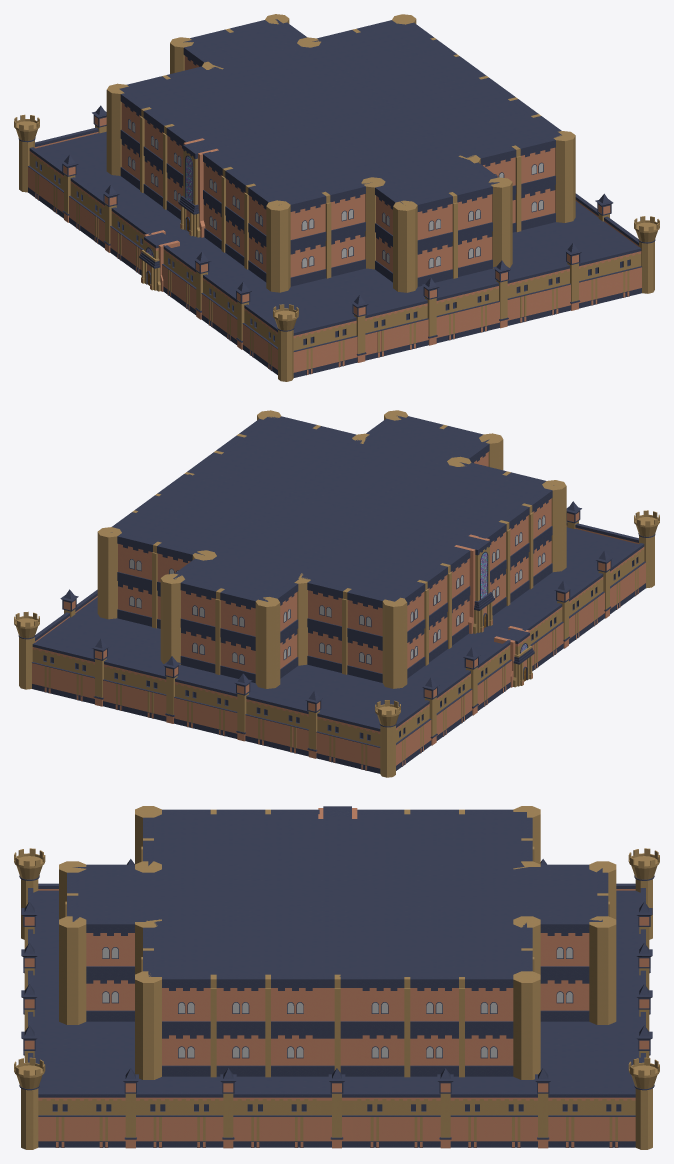
The model's file is FinishedCastle.fbx.
3 views of the same model, one above another, from view 1: azimuth 30°, elevation 25°; view 2: azimuth 150°, elevation 25°; view 3: azimuth 270°, elevation 25° (orthographic). The views are drawn at different scales.
Parts seen in each view (by area): view 1: Plane (×2), polySurface3 (×13), Wall47, Wall44, Wall45, Wall46, Wall43, Tower, Tower3, Tower6, Tower4, Wall29 (+23 smaller); view 2: Plane (×2), polySurface3 (×13), Wall34, Wall37, Wall35, Wall36, Wall38, Tower9, Tower7, Tower12, Tower10, Entrance2 (+21 smaller); view 3: Plane (×2), polySurface3 (×8), Wall39, Wall42, Wall50, Wall51, Wall40, Wall41, Tower10, Tower4, Tower12, Tower6 (+24 smaller).
Boxes of the visible parts, left/top/right/bottom form: Plane (×2): left=35, top=19, right=638, bottom=330; polySurface3 (×13): left=120, top=92, right=555, bottom=286; Wall47: left=293, top=316, right=357, bottom=377; Wall44: left=507, top=264, right=570, bottom=325; Wall45: left=436, top=281, right=499, bottom=342; Wall46: left=365, top=299, right=428, bottom=360; Wall43: left=579, top=247, right=641, bottom=308; Tower: left=266, top=200, right=290, bottom=292; Tower3: left=393, top=200, right=417, bottom=292; Tower6: left=553, top=131, right=575, bottom=222; Tower4: left=488, top=177, right=512, bottom=268; Wall29: left=201, top=274, right=237, bottom=345; Plane (×2): left=35, top=415, right=638, bottom=726; polySurface3 (×13): left=117, top=488, right=552, bottom=682; Wall34: left=316, top=712, right=380, bottom=773; Wall37: left=103, top=660, right=166, bottom=721; Wall35: left=245, top=695, right=308, bottom=756; Wall36: left=174, top=677, right=237, bottom=738; Wall38: left=32, top=642, right=94, bottom=704; Tower9: left=255, top=597, right=280, bottom=688; Tower7: left=382, top=597, right=407, bottom=688; Tower12: left=97, top=527, right=121, bottom=619; Tower10: left=160, top=573, right=184, bottom=664; Entrance2: left=454, top=534, right=494, bottom=633; Plane (×2): left=33, top=812, right=640, bottom=1092; polySurface3 (×8): left=86, top=919, right=589, bottom=1076; Wall39: left=548, top=1092, right=635, bottom=1147; Wall42: left=38, top=1092, right=125, bottom=1147; Wall50: left=353, top=1092, right=440, bottom=1147; Wall51: left=233, top=1092, right=320, bottom=1147; Wall40: left=450, top=1092, right=537, bottom=1147; Wall41: left=136, top=1092, right=223, bottom=1147; Tower10: left=589, top=916, right=616, bottom=1024; Tower4: left=59, top=916, right=86, bottom=1024; Tower12: left=513, top=971, right=540, bottom=1079; Tower6: left=135, top=971, right=161, bottom=1079.
Size of the model in its own units: 52.42 by 16.45 by 64.33.
